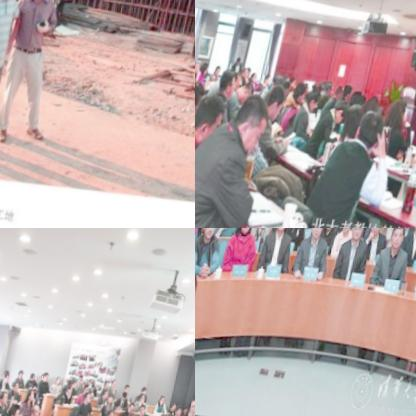head: (235, 90, 278, 159), (195, 89, 233, 147), (357, 108, 394, 152), (267, 82, 294, 119), (390, 95, 416, 124), (349, 101, 372, 131), (222, 69, 244, 97), (238, 77, 259, 104), (335, 98, 355, 125), (195, 81, 208, 121), (310, 88, 327, 112), (393, 228, 411, 248), (325, 76, 341, 98), (297, 79, 312, 101), (370, 95, 386, 115), (344, 82, 358, 104), (9, 402, 29, 416), (195, 58, 209, 75), (1, 389, 14, 406), (31, 401, 45, 416), (285, 78, 298, 94), (313, 228, 330, 240), (338, 81, 350, 97), (353, 228, 370, 239), (205, 228, 223, 238), (29, 385, 40, 401), (131, 398, 142, 414), (244, 64, 255, 78), (15, 379, 25, 393), (110, 390, 120, 404), (103, 389, 114, 401), (254, 71, 264, 84), (372, 228, 388, 236), (20, 367, 29, 381), (85, 381, 94, 395), (162, 392, 171, 406), (110, 405, 121, 416), (216, 63, 226, 75), (85, 391, 95, 403), (177, 404, 187, 416), (127, 381, 136, 394), (142, 390, 151, 403), (56, 375, 66, 386), (205, 61, 214, 73), (267, 71, 276, 83), (241, 228, 259, 234), (6, 372, 14, 385), (74, 376, 82, 389), (80, 371, 88, 384), (124, 391, 132, 404), (32, 372, 41, 383), (69, 383, 78, 394), (186, 404, 195, 415), (294, 75, 302, 87), (142, 403, 150, 415), (144, 382, 152, 394), (173, 399, 181, 411), (238, 55, 246, 66), (47, 372, 55, 383), (92, 383, 100, 393), (107, 380, 115, 390), (114, 377, 121, 388), (43, 372, 49, 382), (192, 398, 195, 416), (161, 412, 173, 416), (0, 377, 3, 392), (131, 412, 141, 416)
